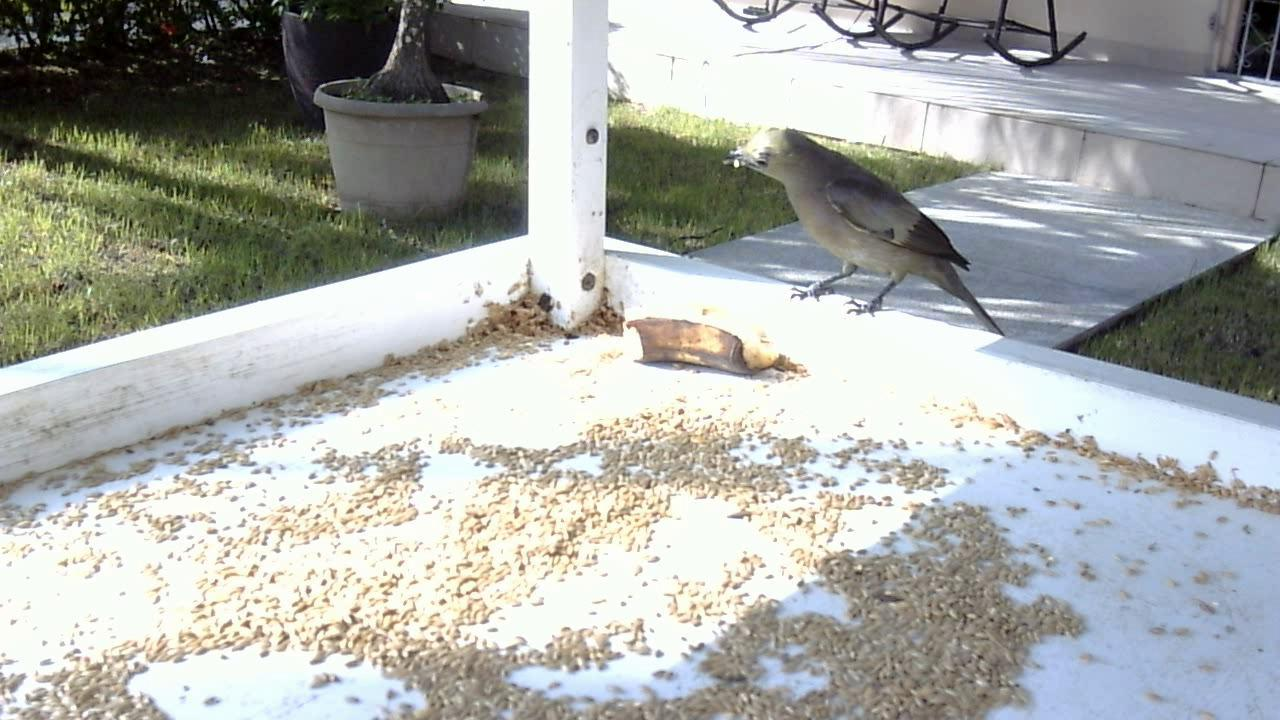sanhaco_do_coqueiro: (715, 110, 1026, 349)
